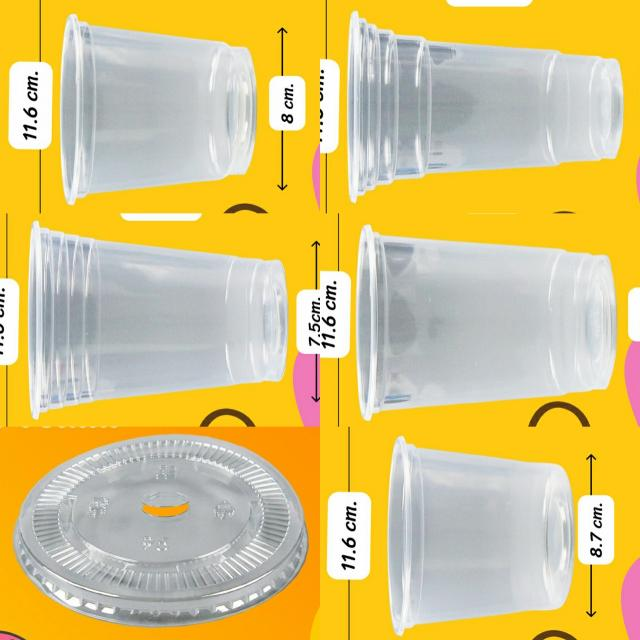Single-Use-Plastic: (14, 435, 308, 627), (348, 12, 623, 201), (29, 222, 288, 418), (357, 225, 617, 420), (60, 14, 256, 204), (388, 436, 574, 634)
